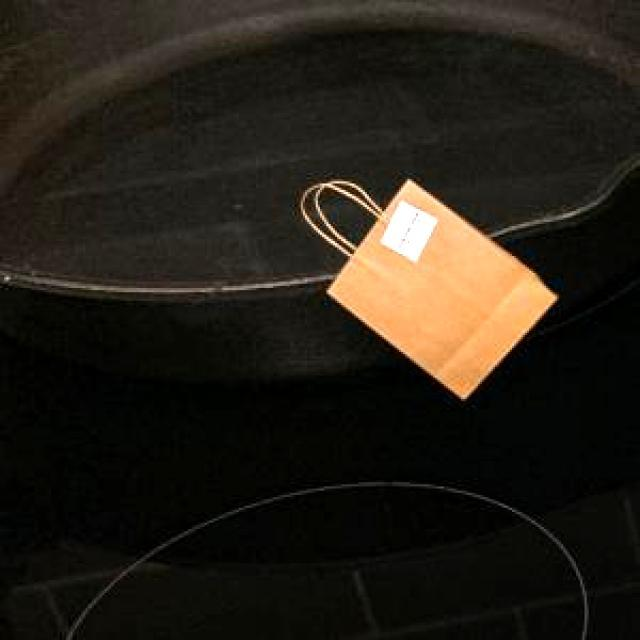Paper_Bag: (326, 176, 554, 396)
